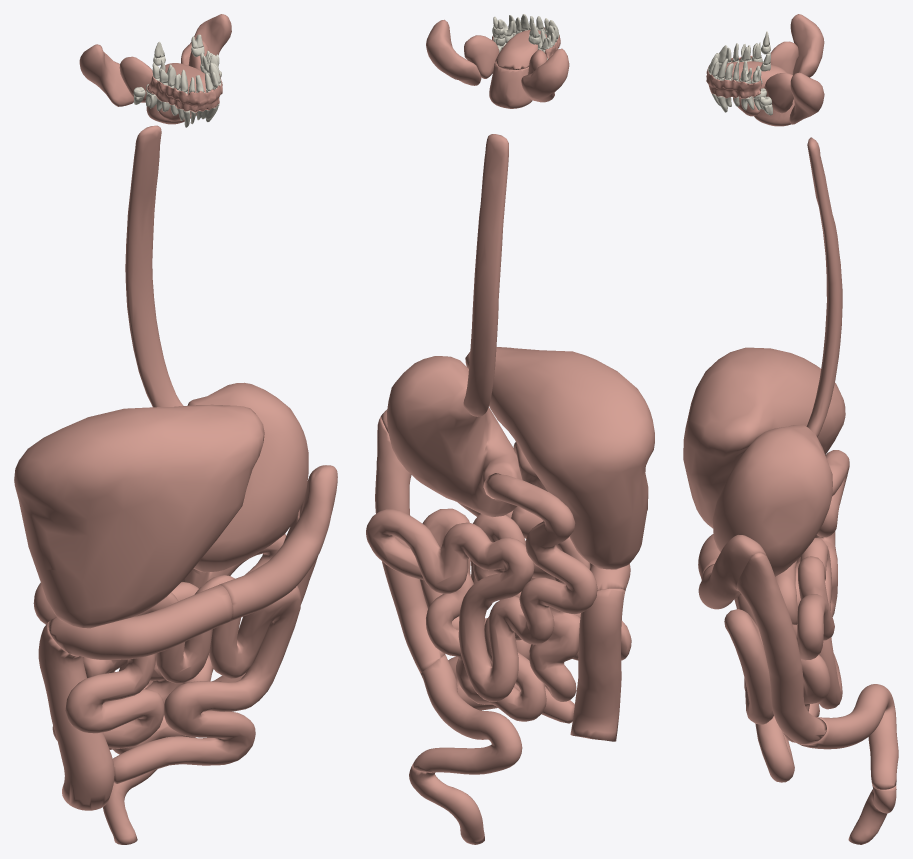
The model's file is pediatric_adolescent_male.digestive.LOD0.glb.
3 renders of one model, left to right at view 1: azimuth 30°, elevation 25°; view 2: azimuth 150°, elevation 25°; view 3: azimuth 270°, elevation 25°, orthographic. The views are drawn at different scales.
Parts seen in each view (by area): view 1: PEDIATRIC.ADOLESCENT.MALE.DIGESTIVE.LIVER, PEDIATRIC.ADOLESCENT.MALE.DIGESTIVE.SMALL_INTESTINE_WALL, PEDIATRIC.ADOLESCENT.MALE.DIGESTIVE.STOMACH_WALL, PEDIATRIC.ADOLESCENT.MALE.DIGESTIVE.OESOPHAGUS_WALL, PEDIATRIC.ADOLESCENT.MALE.DIGESTIVE.TRANSVERSE_COLON_WALL.R, PEDIATRIC.ADOLESCENT.MALE.DIGESTIVE.ASCENDING_COLON_WALL, PEDIATRIC.ADOLESCENT.MALE.DIGESTIVE.TRANSVERSE_COLON_WALL.L, PEDIATRIC.ADOLESCENT.MALE.DIGESTIVE.SALIVARY_GLANDS.R, PEDIATRIC.ADOLESCENT.MALE.DIGESTIVE.PERMANENT_CEMENTUM, PEDIATRIC.ADOLESCENT.MALE.DIGESTIVE.RECTUM_WALL, PEDIATRIC.ADOLESCENT.MALE.DIGESTIVE.ORAL_MUCOSA_LIP_AND_CHEE, PEDIATRIC.ADOLESCENT.MALE.DIGESTIVE.SALIVARY_GLANDS.L; view 2: PEDIATRIC.ADOLESCENT.MALE.DIGESTIVE.SMALL_INTESTINE_WALL, PEDIATRIC.ADOLESCENT.MALE.DIGESTIVE.LIVER, PEDIATRIC.ADOLESCENT.MALE.DIGESTIVE.STOMACH_WALL, PEDIATRIC.ADOLESCENT.MALE.DIGESTIVE.OESOPHAGUS_WALL, PEDIATRIC.ADOLESCENT.MALE.DIGESTIVE.ASCENDING_COLON_WALL, PEDIATRIC.ADOLESCENT.MALE.DIGESTIVE.SIGMOID_COLON_WALL, PEDIATRIC.ADOLESCENT.MALE.DIGESTIVE.DESCENDING_COLON_WALL, PEDIATRIC.ADOLESCENT.MALE.DIGESTIVE.SALIVARY_GLANDS.L, PEDIATRIC.ADOLESCENT.MALE.DIGESTIVE.RECTUM_WALL, PEDIATRIC.ADOLESCENT.MALE.DIGESTIVE.SALIVARY_GLANDS.R, PEDIATRIC.ADOLESCENT.MALE.DIGESTIVE.TONGUE_LOWER, PEDIATRIC.ADOLESCENT.MALE.DIGESTIVE.TRANSVERSE_COLON_WALL.R (+2 smaller); view 3: PEDIATRIC.ADOLESCENT.MALE.DIGESTIVE.LIVER, PEDIATRIC.ADOLESCENT.MALE.DIGESTIVE.SMALL_INTESTINE_WALL, PEDIATRIC.ADOLESCENT.MALE.DIGESTIVE.STOMACH_WALL, PEDIATRIC.ADOLESCENT.MALE.DIGESTIVE.DESCENDING_COLON_WALL, PEDIATRIC.ADOLESCENT.MALE.DIGESTIVE.SIGMOID_COLON_WALL, PEDIATRIC.ADOLESCENT.MALE.DIGESTIVE.OESOPHAGUS_WALL, PEDIATRIC.ADOLESCENT.MALE.DIGESTIVE.TRANSVERSE_COLON_WALL.L, PEDIATRIC.ADOLESCENT.MALE.DIGESTIVE.SALIVARY_GLANDS.L, PEDIATRIC.ADOLESCENT.MALE.DIGESTIVE.SALIVARY_GLANDS.R, PEDIATRIC.ADOLESCENT.MALE.DIGESTIVE.PERMANENT_CEMENTUM, PEDIATRIC.ADOLESCENT.MALE.DIGESTIVE.RECTUM_WALL, PEDIATRIC.ADOLESCENT.MALE.DIGESTIVE.ORAL_MUCOSA_LIP_AND_CHEE (+3 smaller).
Part boxes in pixels (x1,y1,x2,y2): PEDIATRIC.ADOLESCENT.MALE.DIGESTIVE.LIVER: (14,404,264,628); PEDIATRIC.ADOLESCENT.MALE.DIGESTIVE.SMALL_INTESTINE_WALL: (33,534,301,783); PEDIATRIC.ADOLESCENT.MALE.DIGESTIVE.STOMACH_WALL: (187,382,308,572); PEDIATRIC.ADOLESCENT.MALE.DIGESTIVE.OESOPHAGUS_WALL: (125,125,183,407); PEDIATRIC.ADOLESCENT.MALE.DIGESTIVE.TRANSVERSE_COLON_WALL.R: (48,585,232,659); PEDIATRIC.ADOLESCENT.MALE.DIGESTIVE.ASCENDING_COLON_WALL: (38,622,114,810); PEDIATRIC.ADOLESCENT.MALE.DIGESTIVE.TRANSVERSE_COLON_WALL.L: (219,465,337,621); PEDIATRIC.ADOLESCENT.MALE.DIGESTIVE.SALIVARY_GLANDS.R: (79,44,190,121); PEDIATRIC.ADOLESCENT.MALE.DIGESTIVE.PERMANENT_CEMENTUM: (134,34,220,127); PEDIATRIC.ADOLESCENT.MALE.DIGESTIVE.RECTUM_WALL: (103,769,157,844); PEDIATRIC.ADOLESCENT.MALE.DIGESTIVE.ORAL_MUCOSA_LIP_AND_CHEE: (147,74,222,112); PEDIATRIC.ADOLESCENT.MALE.DIGESTIVE.SALIVARY_GLANDS.L: (181,14,231,115); PEDIATRIC.ADOLESCENT.MALE.DIGESTIVE.SMALL_INTESTINE_WALL: (366,473,631,723); PEDIATRIC.ADOLESCENT.MALE.DIGESTIVE.LIVER: (465,347,654,569); PEDIATRIC.ADOLESCENT.MALE.DIGESTIVE.STOMACH_WALL: (387,356,522,517); PEDIATRIC.ADOLESCENT.MALE.DIGESTIVE.OESOPHAGUS_WALL: (463,134,508,416); PEDIATRIC.ADOLESCENT.MALE.DIGESTIVE.ASCENDING_COLON_WALL: (570,588,625,741); PEDIATRIC.ADOLESCENT.MALE.DIGESTIVE.SIGMOID_COLON_WALL: (412,654,522,774); PEDIATRIC.ADOLESCENT.MALE.DIGESTIVE.DESCENDING_COLON_WALL: (375,416,445,673); PEDIATRIC.ADOLESCENT.MALE.DIGESTIVE.SALIVARY_GLANDS.L: (426,19,499,85); PEDIATRIC.ADOLESCENT.MALE.DIGESTIVE.RECTUM_WALL: (409,765,484,844); PEDIATRIC.ADOLESCENT.MALE.DIGESTIVE.SALIVARY_GLANDS.R: (521,48,569,102); PEDIATRIC.ADOLESCENT.MALE.DIGESTIVE.TONGUE_LOWER: (489,63,532,108); PEDIATRIC.ADOLESCENT.MALE.DIGESTIVE.TRANSVERSE_COLON_WALL.R: (511,506,630,590); PEDIATRIC.ADOLESCENT.MALE.DIGESTIVE.LIVER: (683,347,845,528); PEDIATRIC.ADOLESCENT.MALE.DIGESTIVE.SMALL_INTESTINE_WALL: (724,450,849,782); PEDIATRIC.ADOLESCENT.MALE.DIGESTIVE.STOMACH_WALL: (712,424,832,576); PEDIATRIC.ADOLESCENT.MALE.DIGESTIVE.DESCENDING_COLON_WALL: (736,552,826,745); PEDIATRIC.ADOLESCENT.MALE.DIGESTIVE.SIGMOID_COLON_WALL: (799,684,898,789); PEDIATRIC.ADOLESCENT.MALE.DIGESTIVE.OESOPHAGUS_WALL: (806,137,842,436); PEDIATRIC.ADOLESCENT.MALE.DIGESTIVE.TRANSVERSE_COLON_WALL.L: (698,535,766,609); PEDIATRIC.ADOLESCENT.MALE.DIGESTIVE.SALIVARY_GLANDS.L: (733,72,824,124); PEDIATRIC.ADOLESCENT.MALE.DIGESTIVE.SALIVARY_GLANDS.R: (770,14,824,77); PEDIATRIC.ADOLESCENT.MALE.DIGESTIVE.PERMANENT_CEMENTUM: (708,31,772,115); PEDIATRIC.ADOLESCENT.MALE.DIGESTIVE.RECTUM_WALL: (848,785,896,844); PEDIATRIC.ADOLESCENT.MALE.DIGESTIVE.ORAL_MUCOSA_LIP_AND_CHEE: (706,55,761,98).
Bounding box in the file's own units: 0.2736 × 0.7318 × 0.1781.
